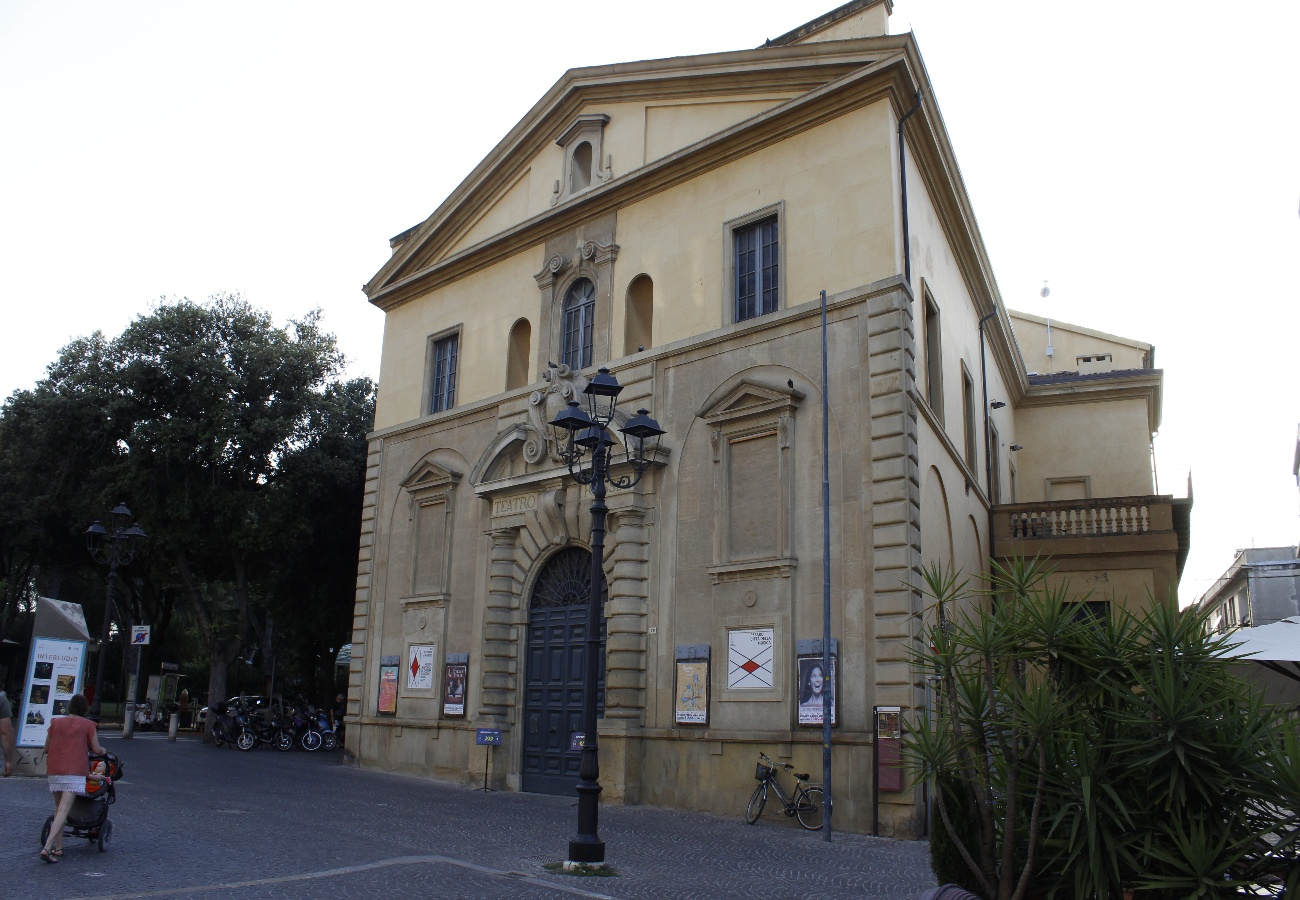Teatro Rossini: (337, 1, 925, 856)
